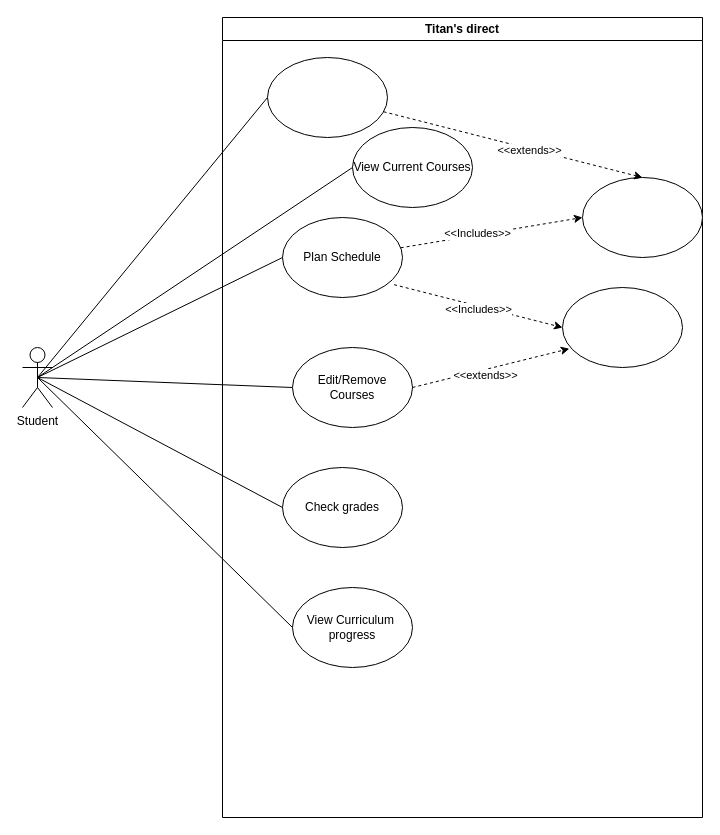
Image size: 720x835. Some labels were removed from this diagram. Each missing label, with the centre of its shape:
"Add courses" goes at point (622, 327).
"Search courses" goes at point (642, 217).
"View Course Info" goes at point (327, 97).
